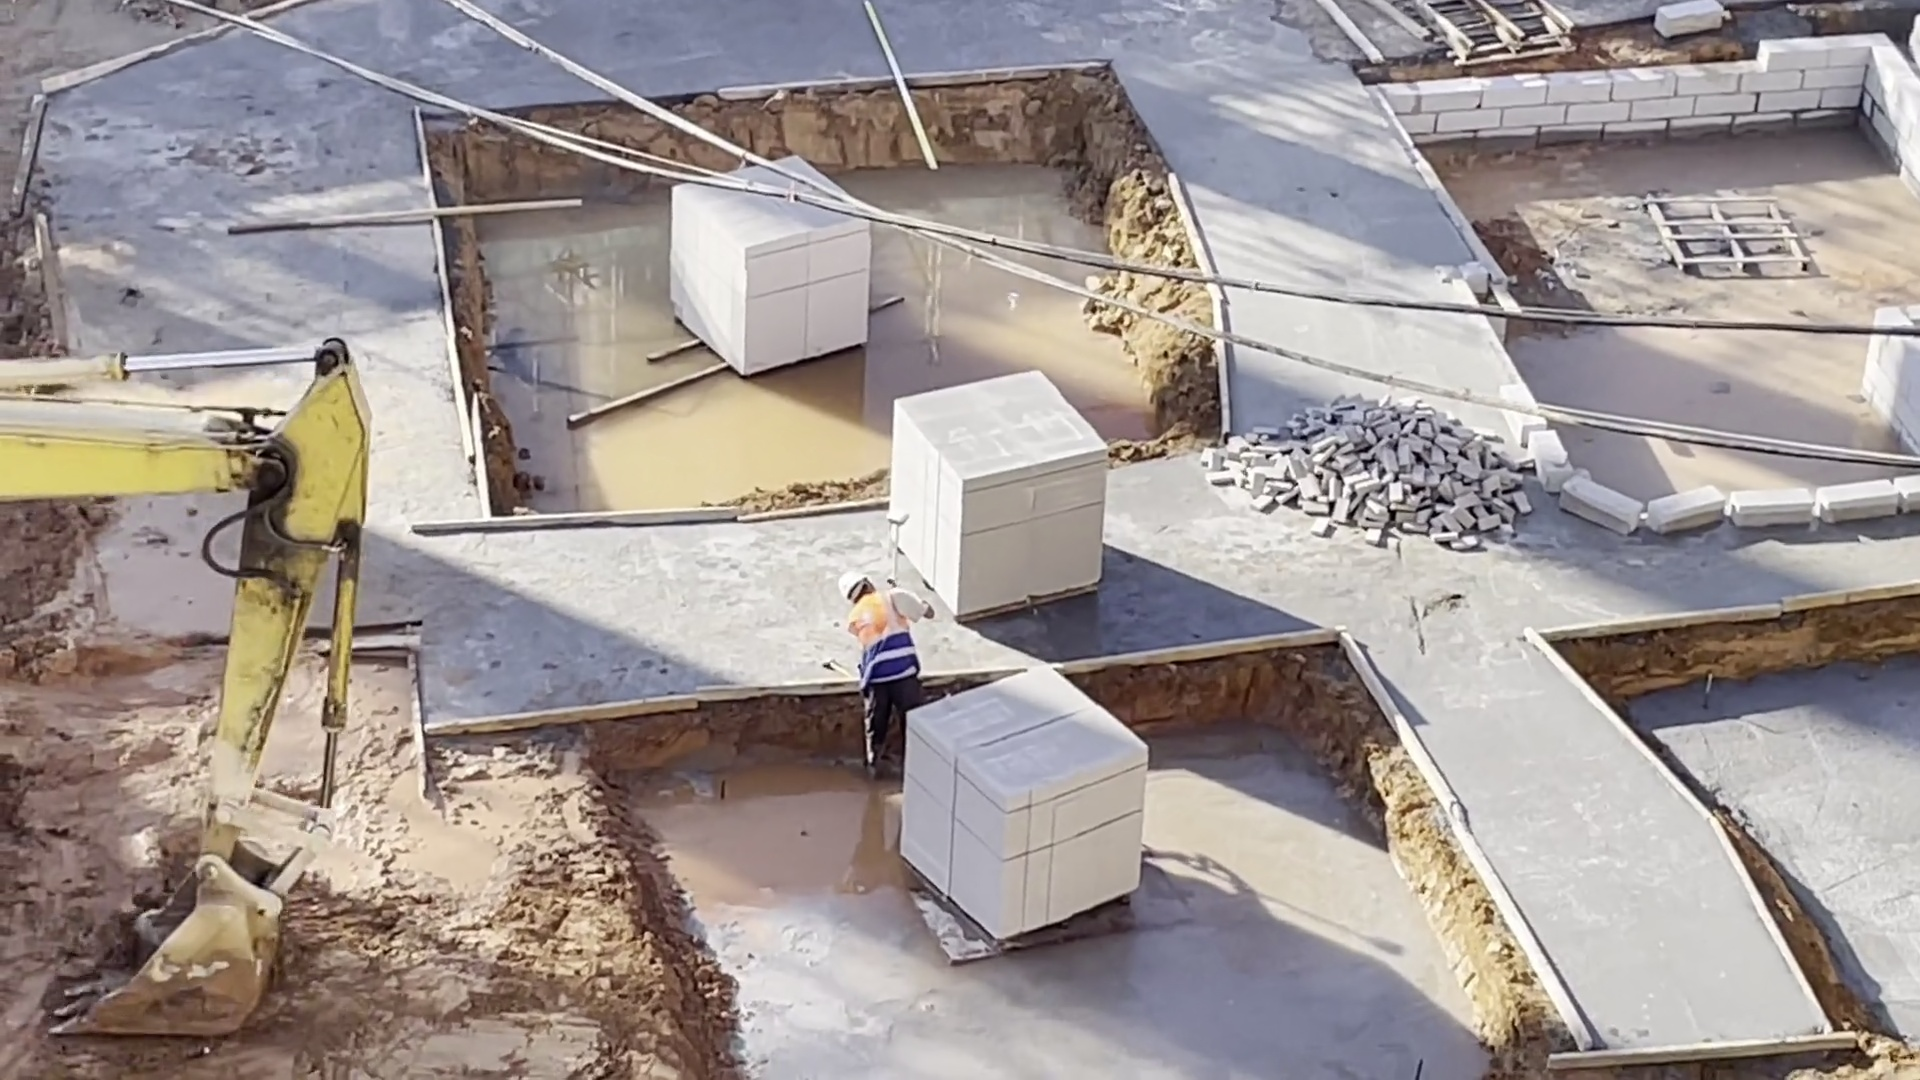brick: (903, 669, 1157, 959), (1203, 391, 1542, 560), (889, 373, 1119, 617), (661, 154, 882, 382)
helmet: (836, 566, 869, 598)
person: (837, 566, 918, 795)
vest: (849, 588, 918, 695)
